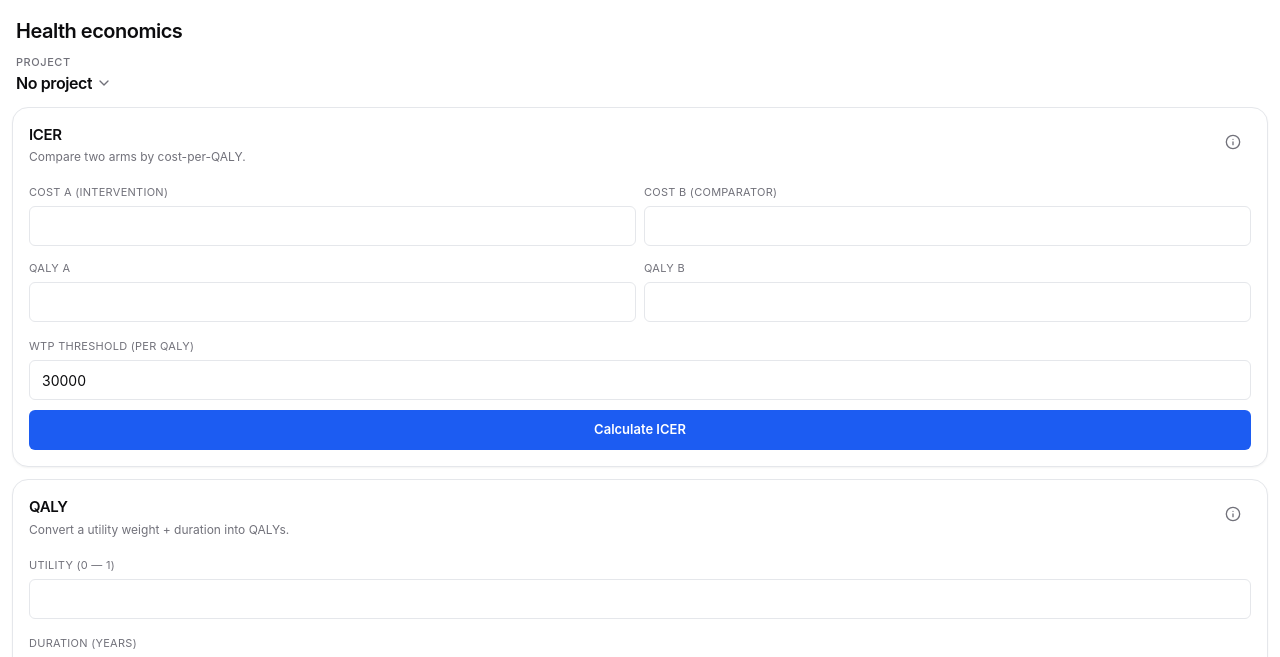
Scenario: MobileEconomics › submits the ICER form and shows a verdict + CI
Expected: the element with test id "meconomics-icer" is shown, [12, 106, 1268, 467]
In the number field with test id "meconomics-icer-cost-a": (332, 226) [29, 206, 636, 246], type "15000"
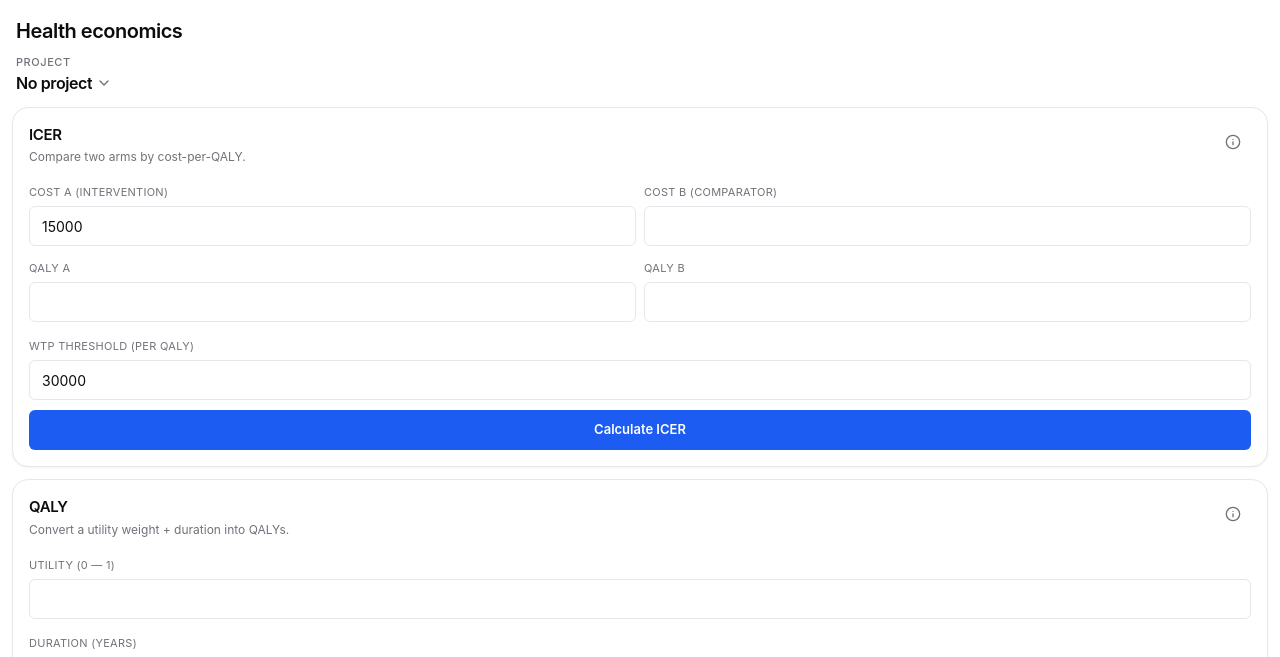
In the number field with test id "meconomics-icer-cost-b": (948, 226) [644, 206, 1251, 246], type "10000"
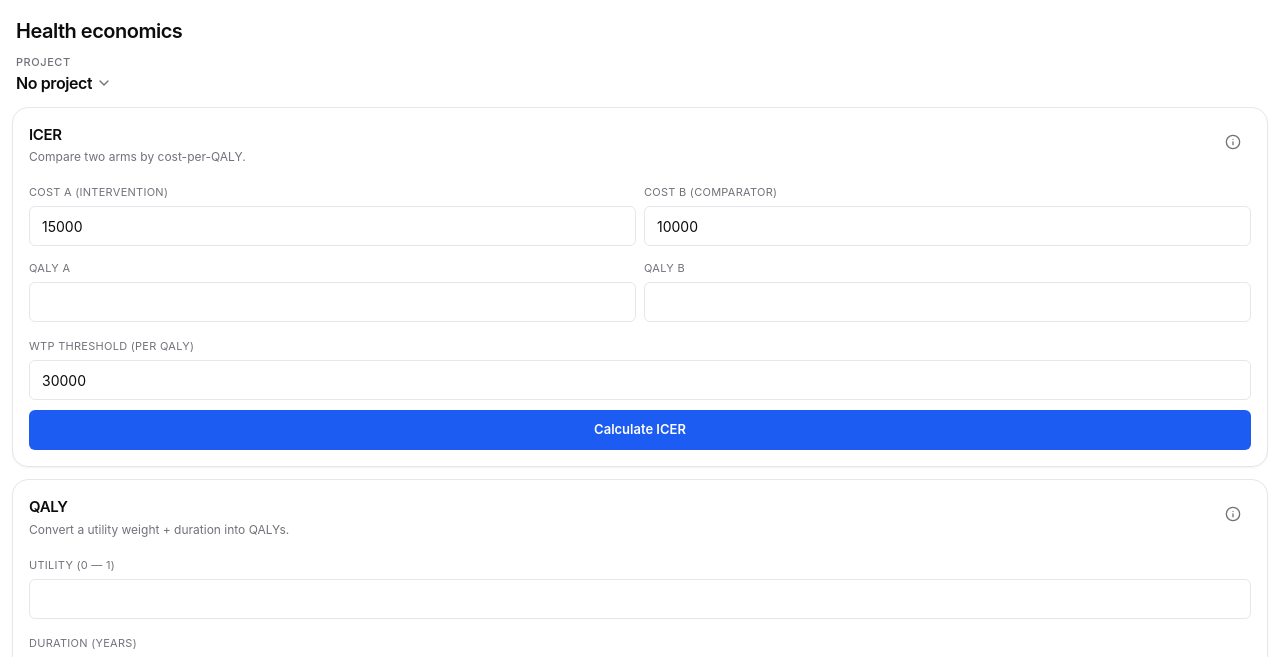
In the number field with test id "meconomics-icer-qaly-a": (332, 302) [29, 282, 636, 322], type "2.5"
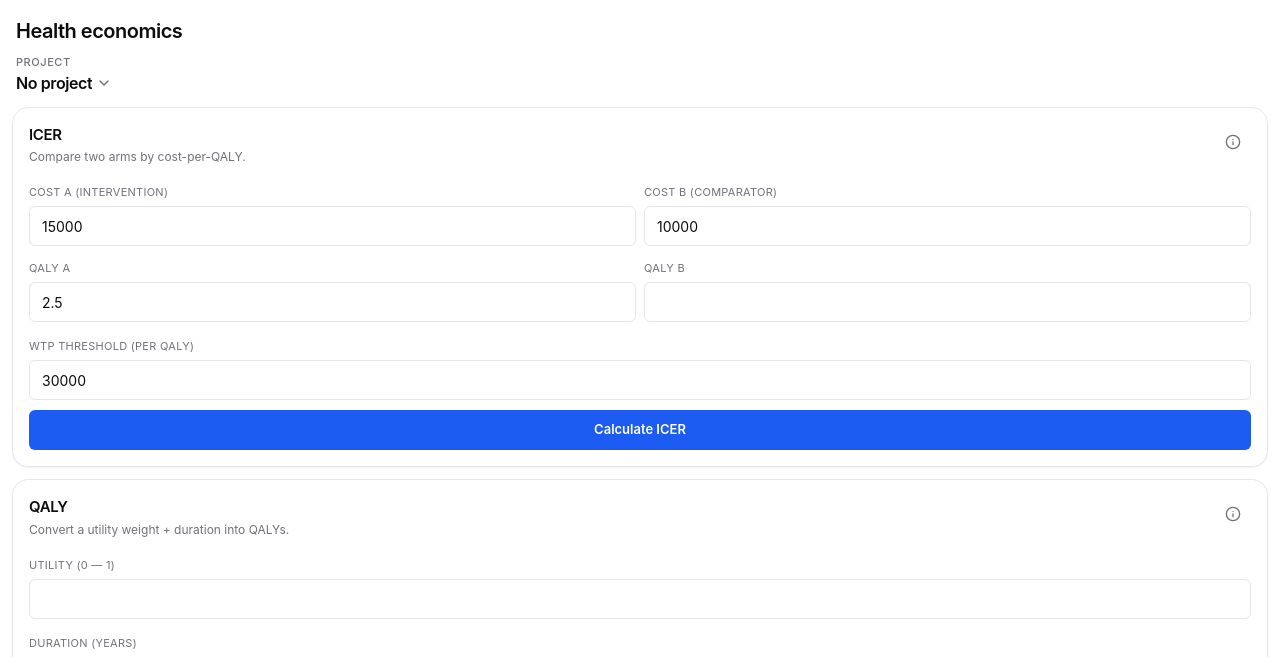
In the number field with test id "meconomics-icer-qaly-b": (948, 302) [644, 282, 1251, 322], type "2.0"
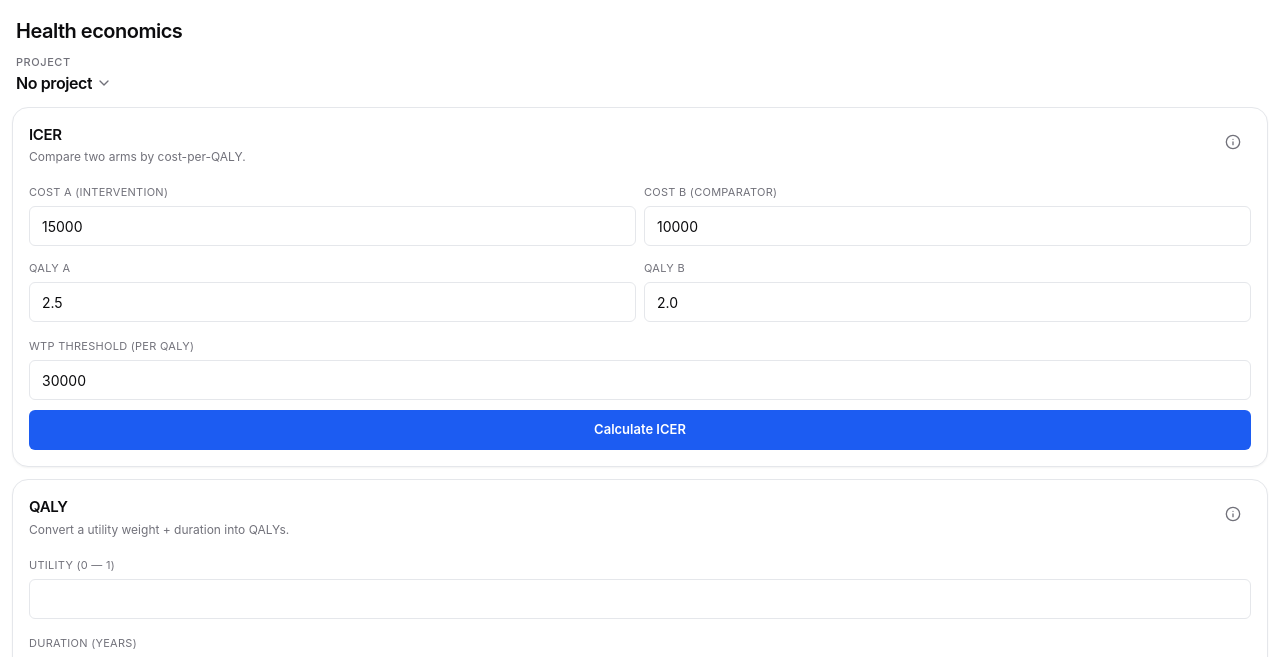
Click the button with test id "meconomics-icer-submit": (640, 430) [29, 410, 1251, 450]
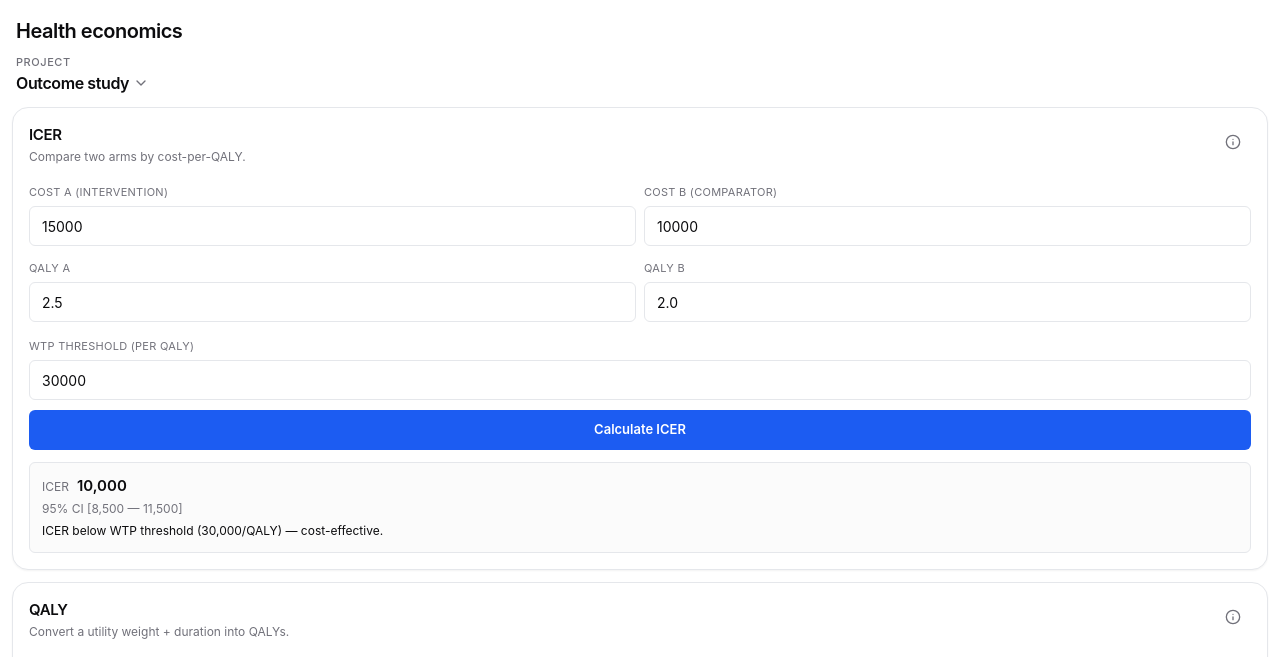
Expected: the element with test id "meconomics-icer-result" shows "cost-effective", [42, 522, 383, 538]
Expected: the element with test id "meconomics-icer-result" shows "95% CI", [42, 500, 92, 516]
